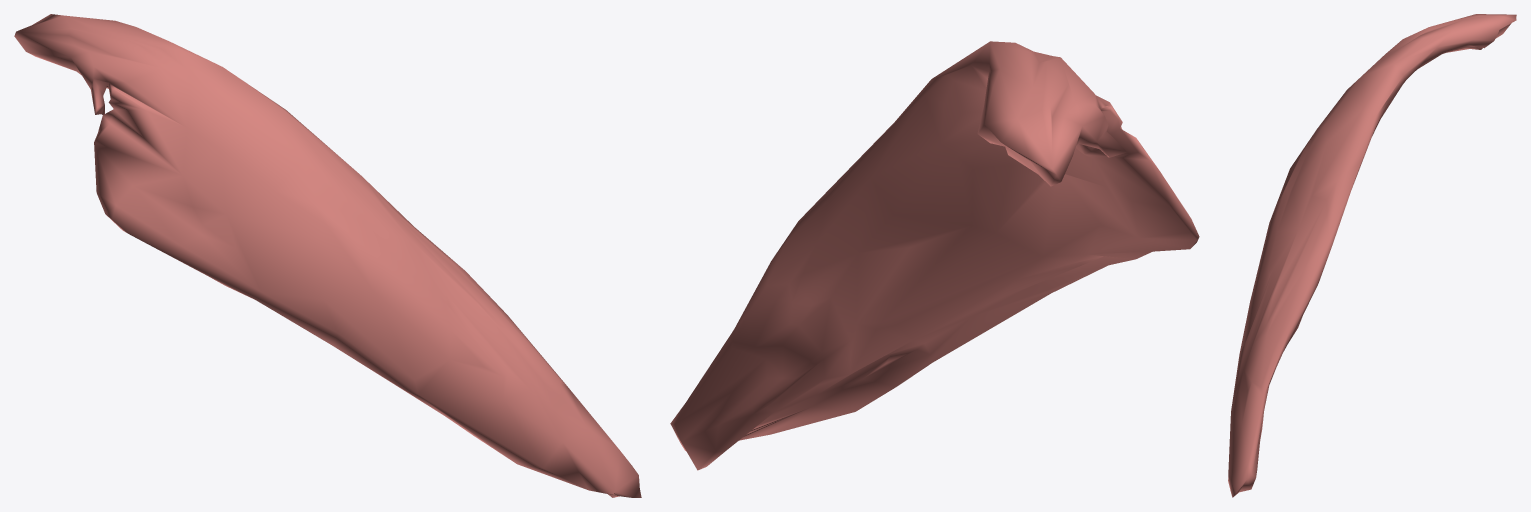
The picture shows the model from 3 angles, left to right: view 1: azimuth 30°, elevation 25°; view 2: azimuth 150°, elevation 25°; view 3: azimuth 270°, elevation 25°; orthographic projection. The views are drawn at different scales.
Visible parts, largest first — view 1: ZA_82c962cfd877e30b; view 2: ZA_82c962cfd877e30b; view 3: ZA_82c962cfd877e30b.
Part boxes in pixels (x1,y1,x2,y2): ZA_82c962cfd877e30b: (14, 14, 641, 497); ZA_82c962cfd877e30b: (670, 41, 1199, 470); ZA_82c962cfd877e30b: (1228, 14, 1516, 497).
Bounding box in the file's own units: 0.0407 × 0.0395 × 0.0306.
